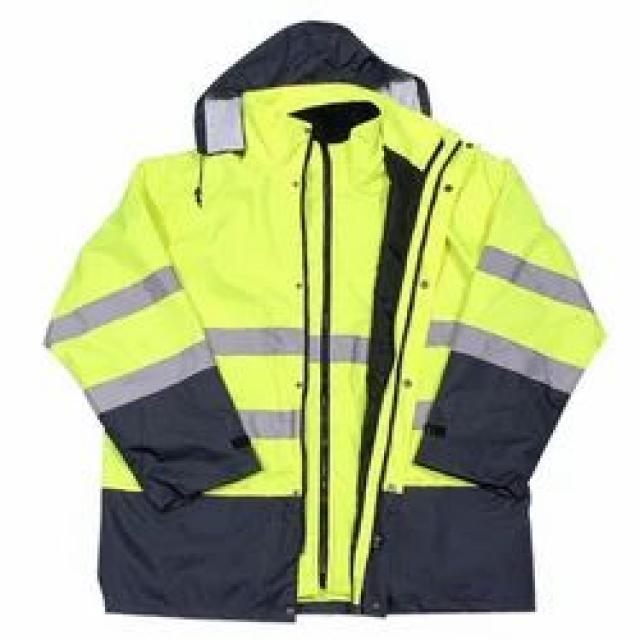Reflective-Jacket: (20, 43, 635, 614)
